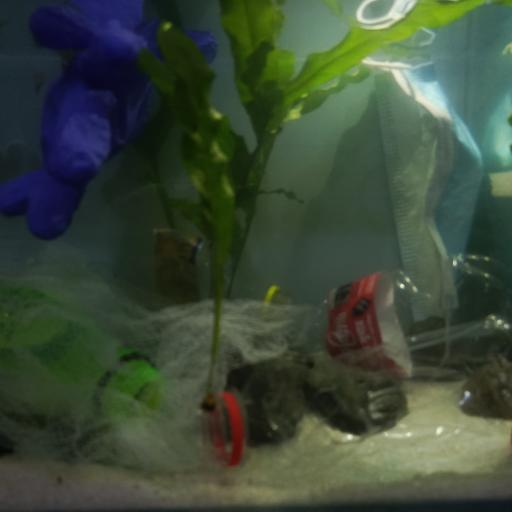glove: (0, 34, 205, 243)
mask: (364, 42, 488, 327)
net: (14, 258, 294, 476)
plastic_bottle: (205, 300, 512, 460), (306, 251, 512, 367), (78, 220, 297, 328), (0, 278, 163, 417)
